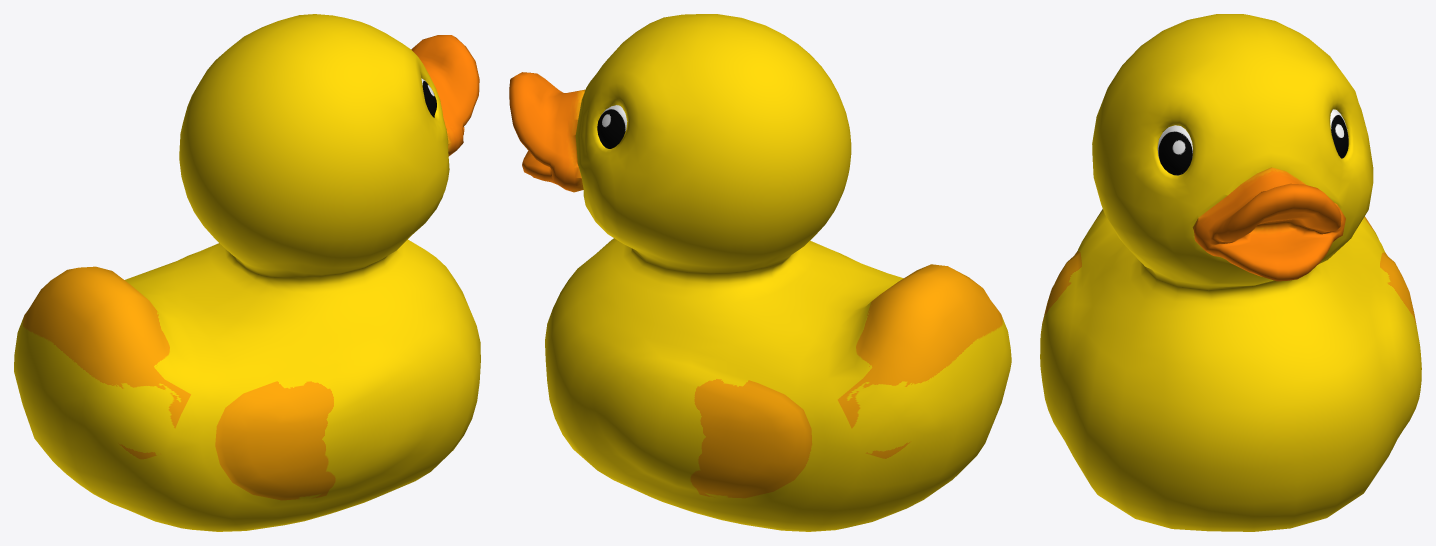
The model's file is Duck.gltf.
3 views of the same model, side by side, from view 1: azimuth 30°, elevation 25°; view 2: azimuth 150°, elevation 25°; view 3: azimuth 270°, elevation 25° (orthographic). The views are drawn at different scales.
Parts seen in each view (by area): view 1: LOD3spShape; view 2: LOD3spShape; view 3: LOD3spShape.
Boxes of the visible parts, bbox=[...] form: LOD3spShape: bbox=[14, 14, 480, 531]; LOD3spShape: bbox=[509, 14, 1011, 531]; LOD3spShape: bbox=[1040, 14, 1421, 531].
Size of the model in its own units: 1.65 by 1.54 by 1.15.
Materials: 1 (1 with a texture image).
